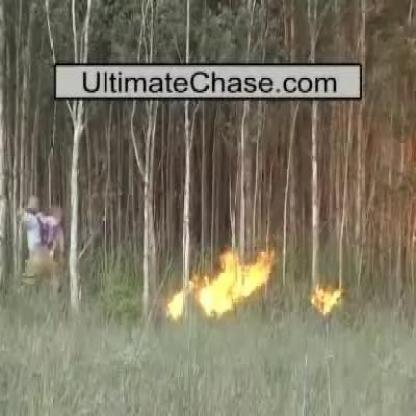foggia-v2-map80-epoch100 - v1 4323: (165, 249, 274, 320), (312, 287, 344, 314)
